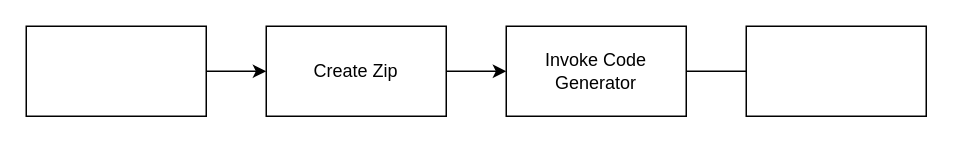
This 953x143 diagram has some shape labels left out. The shapes that lost their labels are listed below. From the top down, each one's box as (x1, y1, x2, y2) in pixels, then its label:
(25, 25, 206, 116): Source Code Link
(745, 25, 926, 116): Generate Business Flow Document
